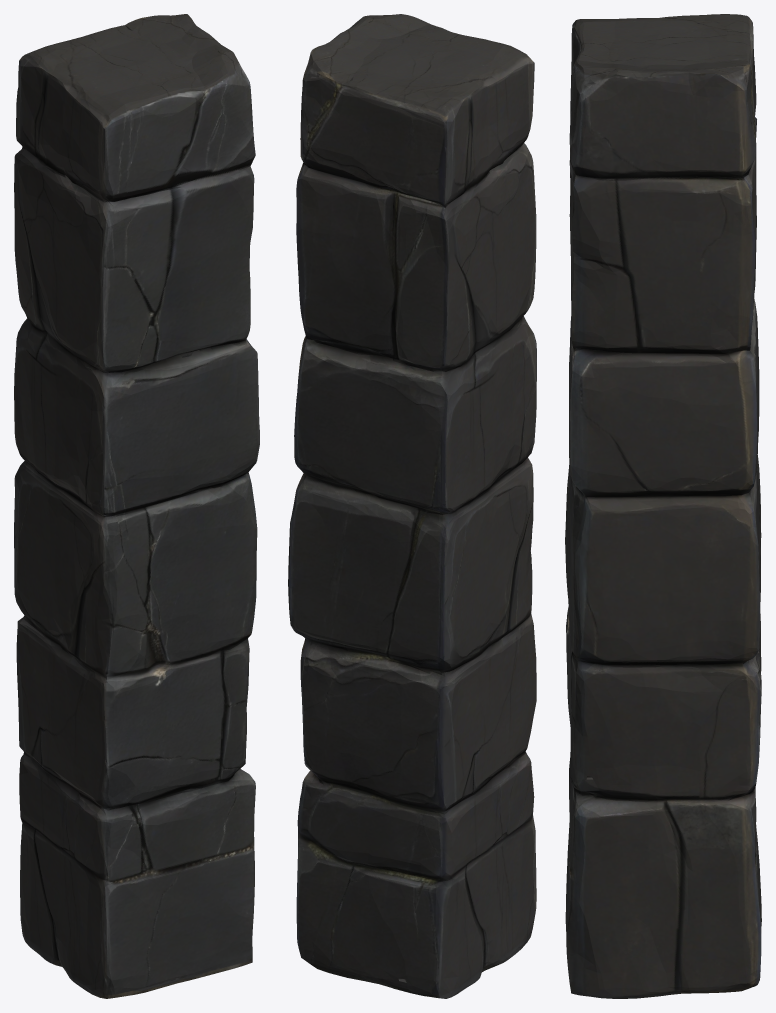
Rendered from StoneSlab.fbx.
The picture shows the model from 3 angles, left to right: view 1: azimuth 30°, elevation 25°; view 2: azimuth 150°, elevation 25°; view 3: azimuth 270°, elevation 25°; orthographic projection. The views are drawn at different scales.
Parts seen in each view (by area): view 1: temp; view 2: temp; view 3: temp.
Part boxes in pixels (x1,y1,x2,y2): temp: (14,14,259,998); temp: (288,14,536,998); temp: (565,14,761,998).
Size of the model in its own units: 37.53 by 199 by 38.25.
1 material, 1 textured.
